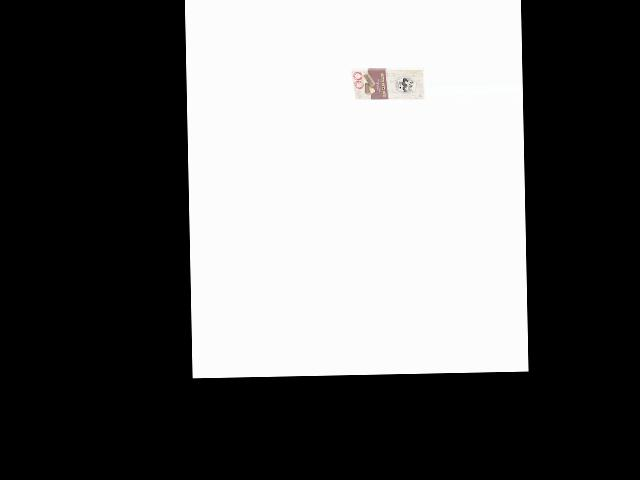chocolate: (350, 61, 424, 102)
